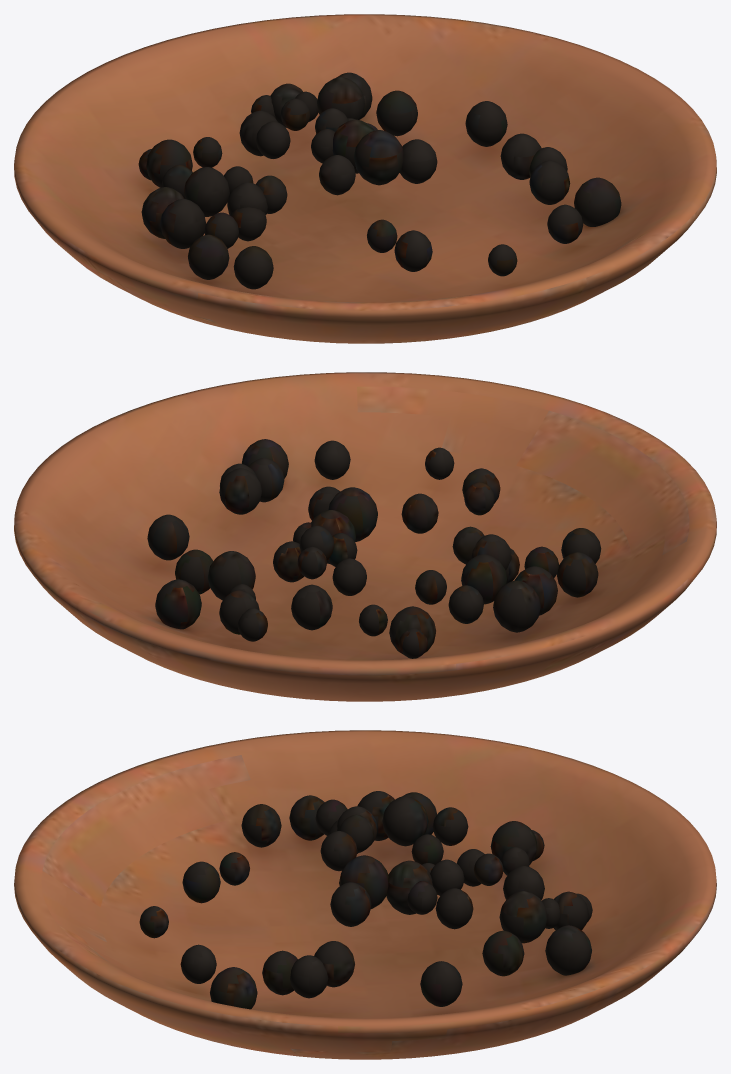
Rendered from pepper.glb.
The picture shows the model from 3 angles, top to bottom: view 1: azimuth 30°, elevation 25°; view 2: azimuth 150°, elevation 25°; view 3: azimuth 270°, elevation 25°; orthographic projection.
Parts seen in each view (by area): view 1: pepper; view 2: pepper; view 3: pepper.
Part boxes in pixels (<box>): pepper: <box>14,14,716,343</box>; pepper: <box>14,372,716,701</box>; pepper: <box>14,730,716,1059</box>.
Size of the model in its own units: 0.0901 by 0.0179 by 0.0901.
Materials: 1 (1 with a texture image).
